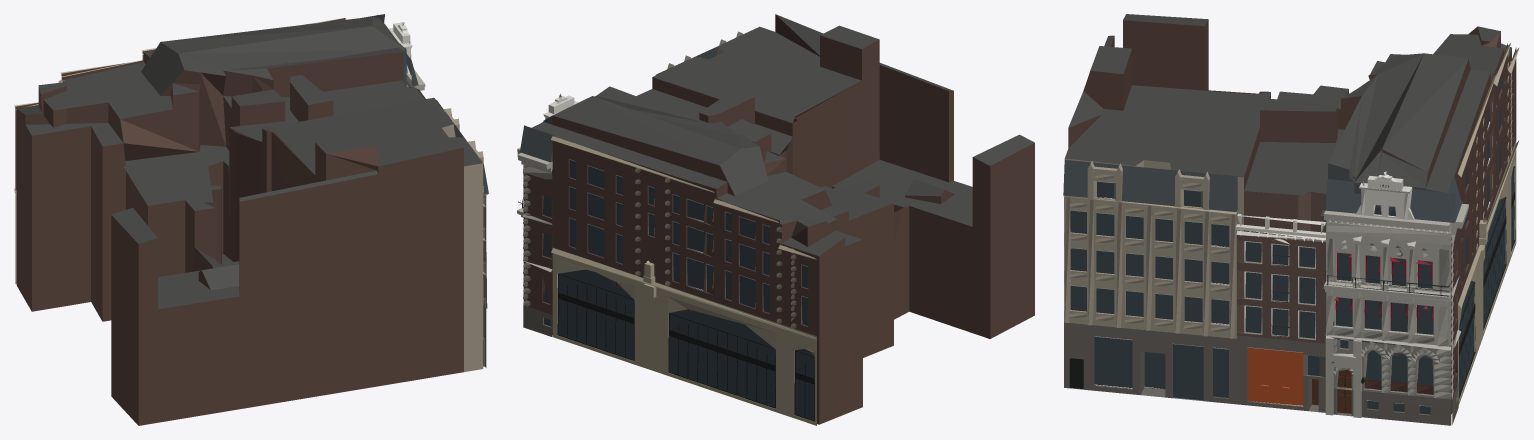
The model's file is cafe-riche-rokin.lod1.glb.
The picture shows the model from 3 angles, left to right: view 1: azimuth 30°, elevation 25°; view 2: azimuth 150°, elevation 25°; view 3: azimuth 270°, elevation 25°; orthographic projection. The views are drawn at different scales.
Parts seen in each view (by area): view 1: cafe-riche-rokin; view 2: cafe-riche-rokin; view 3: cafe-riche-rokin.
Boxes of the visible parts, <box> form: cafe-riche-rokin: <box>14,14,488,425</box>; cafe-riche-rokin: <box>517,14,1034,425</box>; cafe-riche-rokin: <box>1063,14,1519,425</box>.
Bounding box in the file's own units: 38.04 × 21.78 × 34.08.
